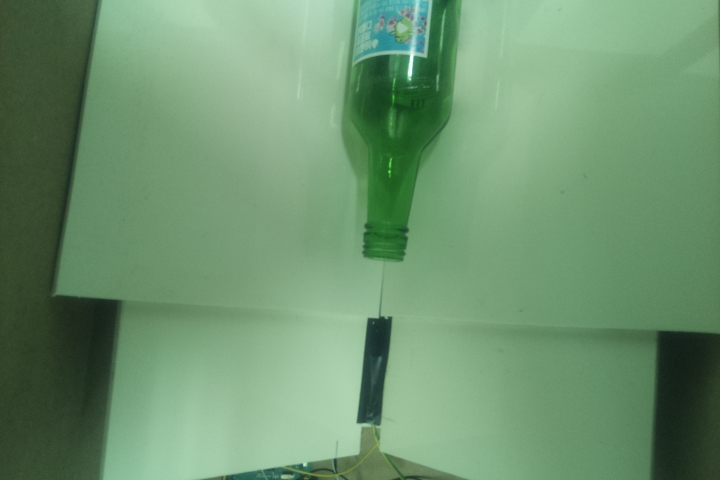soju: (340, 1, 464, 264)
